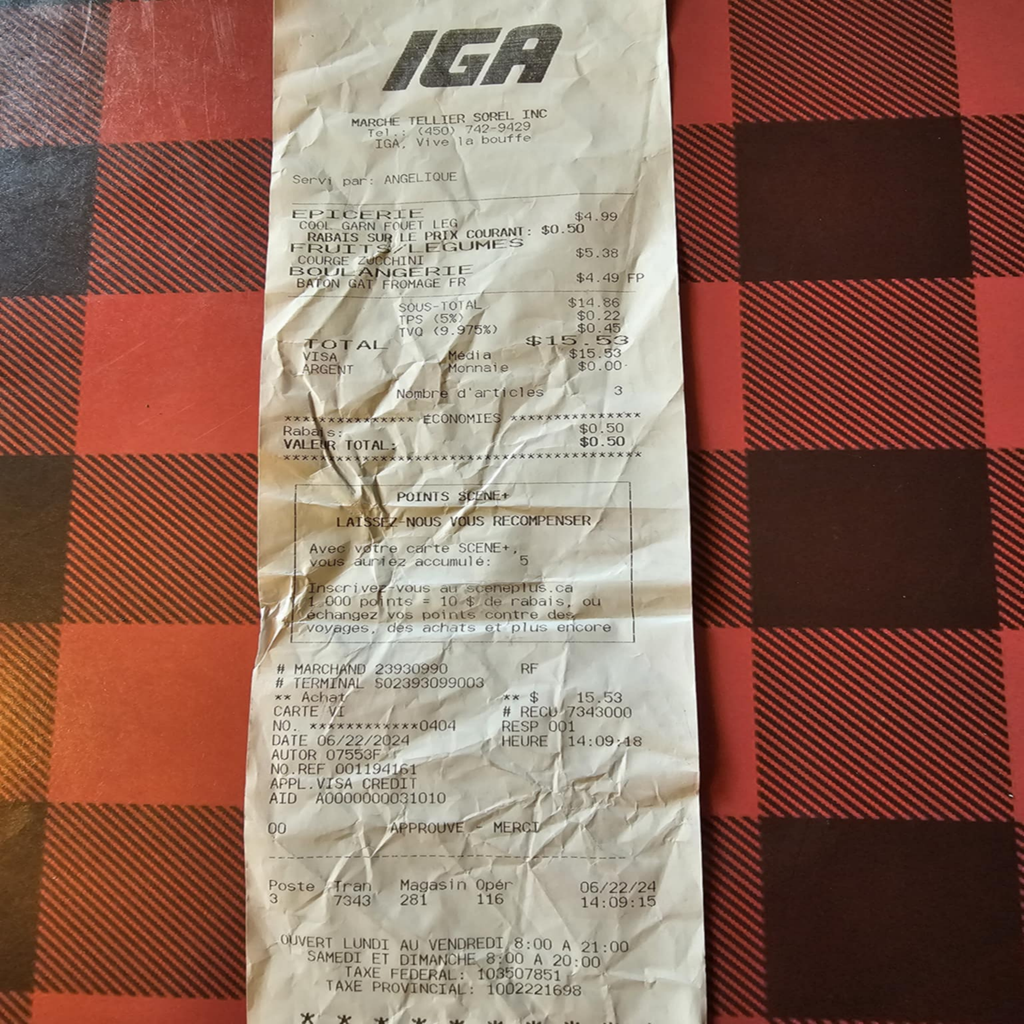recipt: (243, 0, 709, 1024)
